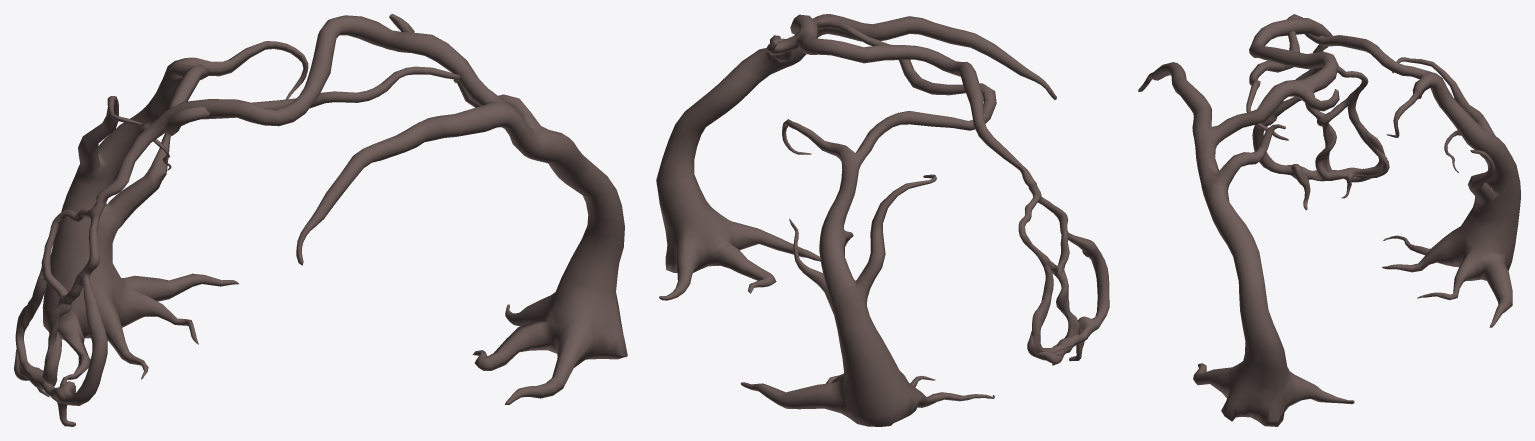
File: SM_DressingRoom_Trees.fbx
3 renders of one model, left to right at view 1: azimuth 30°, elevation 25°; view 2: azimuth 150°, elevation 25°; view 3: azimuth 270°, elevation 25°, orthographic. The views are drawn at different scales.
Parts seen in each view (by area): view 1: SM_DressingRoom_Trees; view 2: SM_DressingRoom_Trees; view 3: SM_DressingRoom_Trees.
Boxes of the visible parts, box(x1,y1,x2,y2) form: SM_DressingRoom_Trees: box(14, 14, 627, 426); SM_DressingRoom_Trees: box(656, 14, 1109, 426); SM_DressingRoom_Trees: box(1138, 14, 1520, 426).
Bounding box in the file's own units: 11.65 × 7.28 × 8.91.
